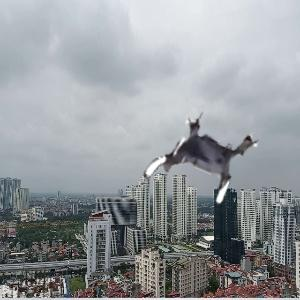drone: (150, 106, 256, 212)
